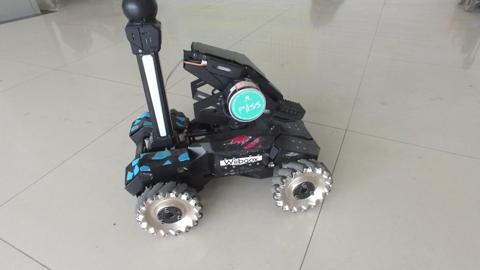chariot: (120, 1, 334, 237)
